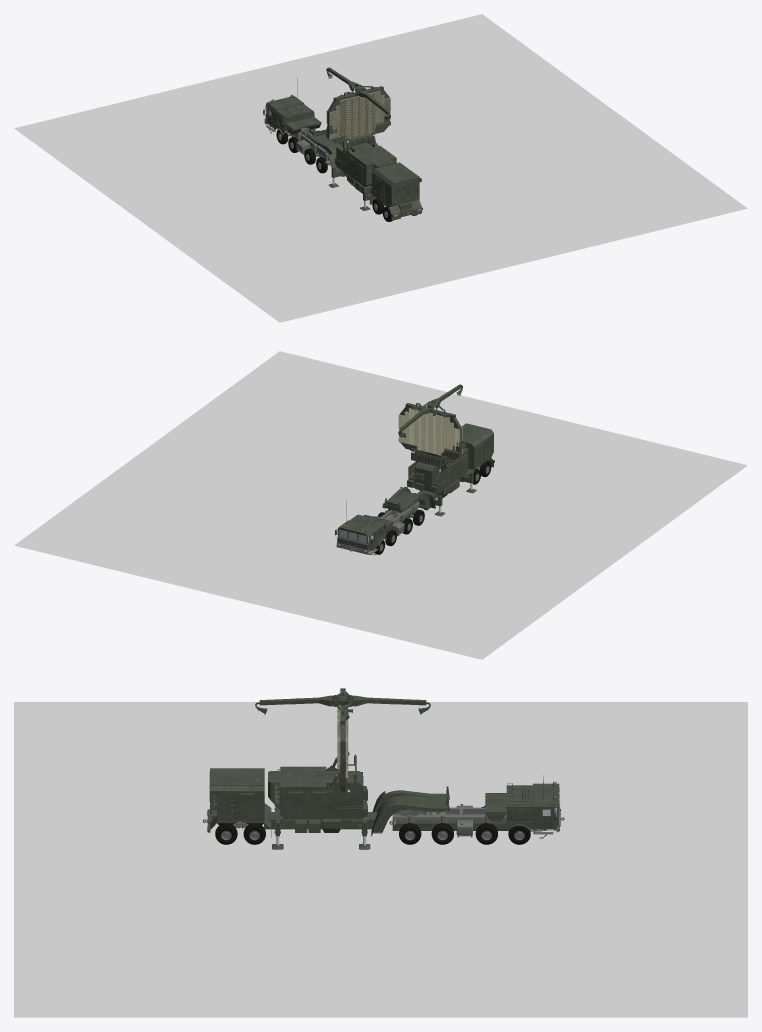
The model's file is sa-21-battalion.glb.
The picture shows the model from 3 angles, top to bottom: view 1: azimuth 30°, elevation 25°; view 2: azimuth 150°, elevation 25°; view 3: azimuth 270°, elevation 25°; orthographic projection. The views are drawn at different scales.
Parts seen in each view (by area): view 1: Object_2, Object_3, Object_4, Object_29, Object_12; view 2: Object_2, Object_3, Object_4, Object_12, Object_29; view 3: Object_2, Object_3, Object_12, Object_29, Object_4.
Part boxes in pixels (x1,y1,x2,y2): Object_2: (14, 14, 747, 322); Object_3: (263, 67, 422, 220); Object_4: (263, 75, 421, 218); Object_29: (276, 129, 417, 221); Object_12: (264, 77, 420, 216); Object_2: (14, 351, 747, 659); Object_3: (335, 384, 494, 552); Object_4: (337, 392, 489, 552); Object_12: (336, 466, 480, 555); Object_29: (373, 461, 491, 554); Object_2: (14, 702, 747, 1017); Object_3: (207, 688, 560, 849); Object_12: (202, 775, 564, 838); Object_29: (215, 806, 530, 844); Object_4: (207, 705, 560, 845).
Size of the model in its own units: 2135 by 435 by 2099.
Materials: 5 (5 with a texture image).
